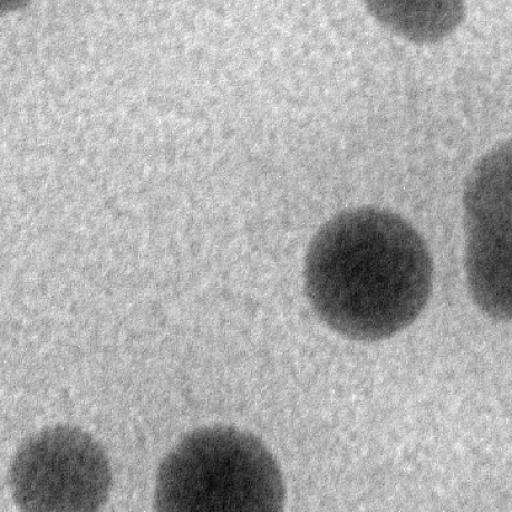Nanoparticles: (301, 202, 423, 343), (153, 423, 290, 512), (6, 423, 114, 512), (460, 136, 512, 239), (362, 1, 475, 48), (464, 246, 510, 322), (461, 208, 512, 262)
